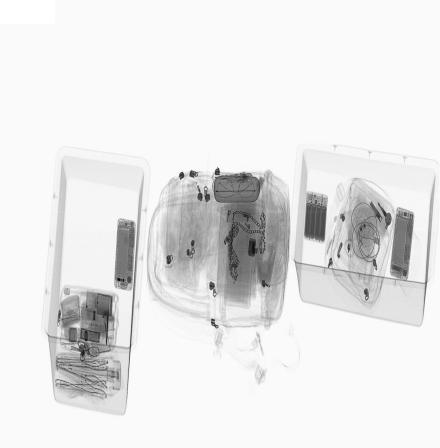Powerbank: (304, 189, 329, 244)
